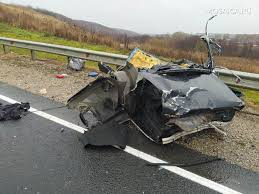car: (84, 46, 249, 160)
